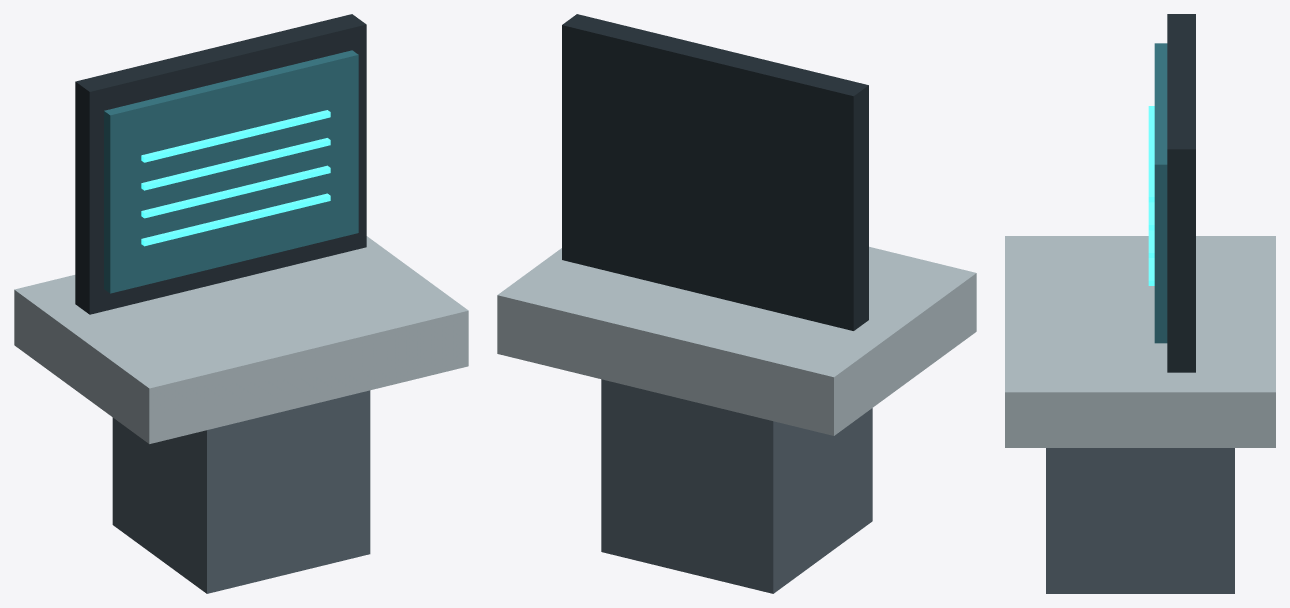
The model's file is research-console.glb.
3 views of the same model, side by side, from view 1: azimuth 30°, elevation 25°; view 2: azimuth 150°, elevation 25°; view 3: azimuth 270°, elevation 25° (orthographic). The views are drawn at different scales.
Parts seen in each view (by area): view 1: lab desk, glowing status panel, desk pedestal, scientific monitor, telemetry line.002, telemetry line.003, telemetry line.001, telemetry line; view 2: scientific monitor, lab desk, desk pedestal; view 3: lab desk, desk pedestal, scientific monitor, glowing status panel, telemetry line.003.
Boxes of the visible parts, bbox=[...] form: lab desk: bbox=[14, 236, 468, 443]; glowing status panel: bbox=[104, 50, 358, 293]; desk pedestal: bbox=[112, 390, 370, 593]; scientific monitor: bbox=[75, 14, 366, 314]; telemetry line.002: bbox=[141, 138, 330, 190]; telemetry line.003: bbox=[141, 110, 330, 162]; telemetry line.001: bbox=[141, 165, 330, 218]; telemetry line: bbox=[141, 193, 330, 246]; scientific monitor: bbox=[562, 14, 868, 330]; lab desk: bbox=[497, 246, 976, 435]; desk pedestal: bbox=[601, 379, 872, 593]; lab desk: bbox=[1005, 236, 1275, 447]; desk pedestal: bbox=[1046, 448, 1234, 593]; scientific monitor: bbox=[1167, 14, 1195, 372]; glowing status panel: bbox=[1154, 43, 1167, 343]; telemetry line.003: bbox=[1148, 106, 1154, 202].
Bounding box in the file's own units: 0.9 × 1.27 × 0.66.
